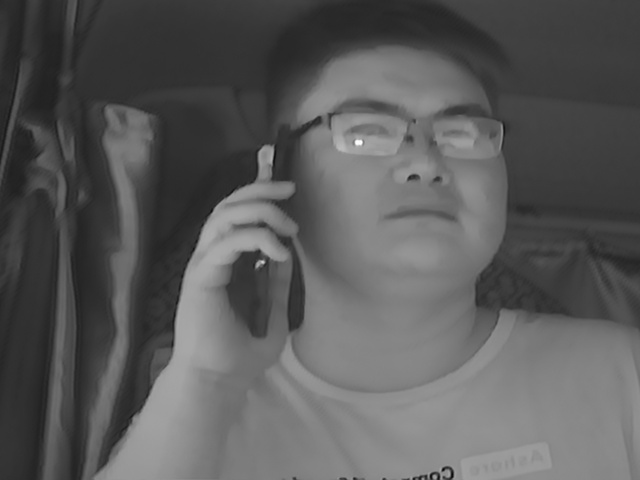hand: (173, 172, 300, 381)
